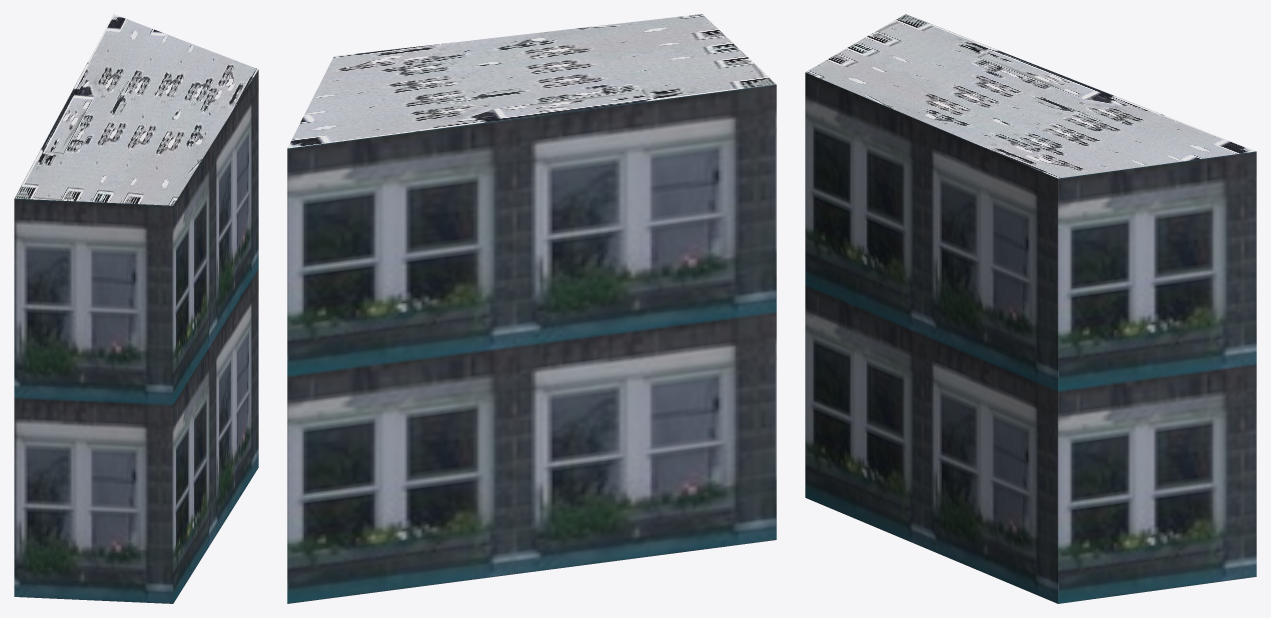
Rendered from ResTex__4327.fbx.
The picture shows the model from 3 angles, left to right: view 1: azimuth 30°, elevation 25°; view 2: azimuth 150°, elevation 25°; view 3: azimuth 270°, elevation 25°; orthographic projection. The views are drawn at different scales.
Parts seen in each view (by area): view 1: CityEngineMaterial_11_m, CityEngineMaterial_m; view 2: CityEngineMaterial_11_m, CityEngineMaterial_m; view 3: CityEngineMaterial_11_m, CityEngineMaterial_m.
Part boxes in pixels (left/top/right/bottom): CityEngineMaterial_11_m: left=14, top=70, right=258, bottom=603; CityEngineMaterial_m: left=14, top=14, right=258, bottom=205; CityEngineMaterial_11_m: left=287, top=84, right=776, bottom=603; CityEngineMaterial_m: left=287, top=14, right=776, bottom=148; CityEngineMaterial_11_m: left=805, top=72, right=1256, bottom=603; CityEngineMaterial_m: left=805, top=14, right=1255, bottom=178.
Size of the model in its own units: 4.98 by 6 by 5.77.
Materials: 2 (2 with a texture image).
